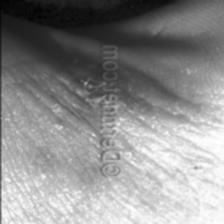Toxin: (73, 75, 109, 112)
